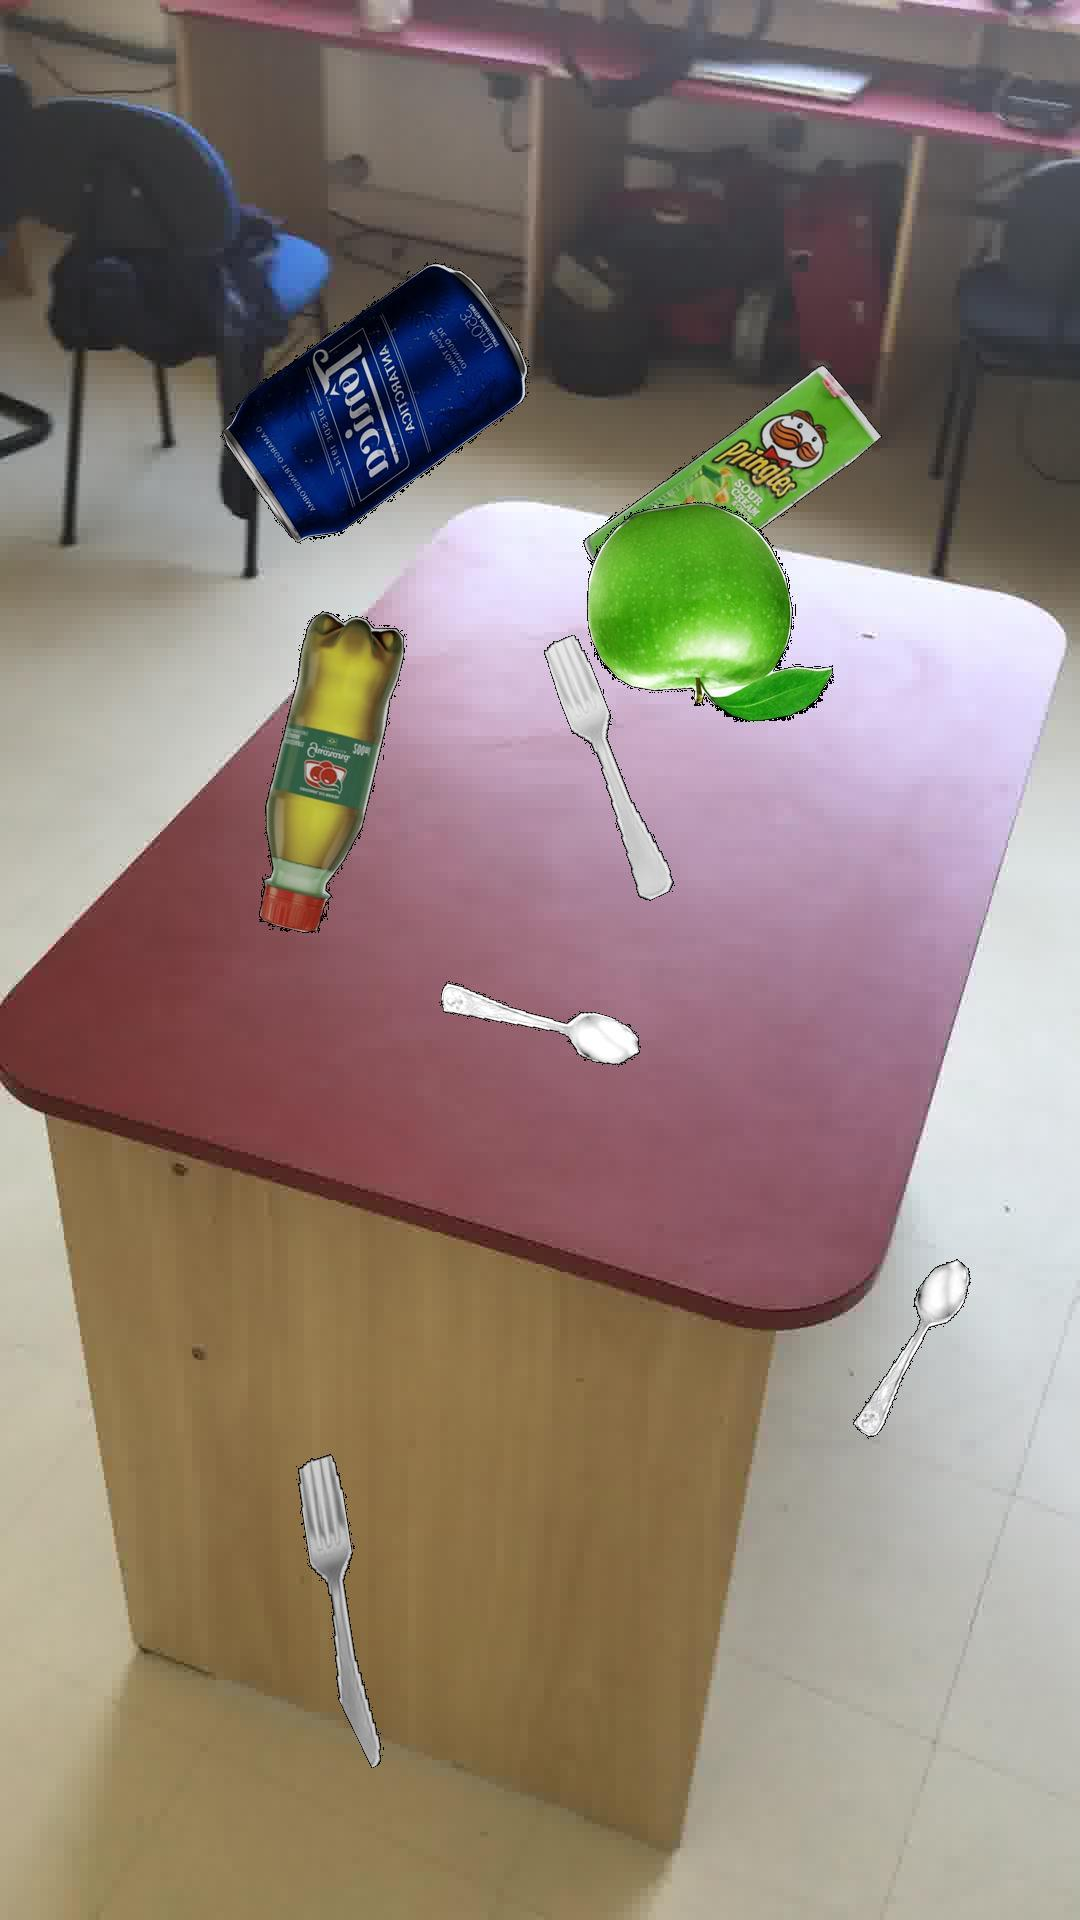fork: (542, 633, 673, 899), (297, 1452, 380, 1767)
green apple: (585, 501, 832, 720)
guarana: (257, 609, 404, 931)
pringles: (582, 364, 881, 559)
spoon: (852, 1258, 969, 1436), (439, 981, 640, 1063)
tonic: (220, 261, 529, 542)
